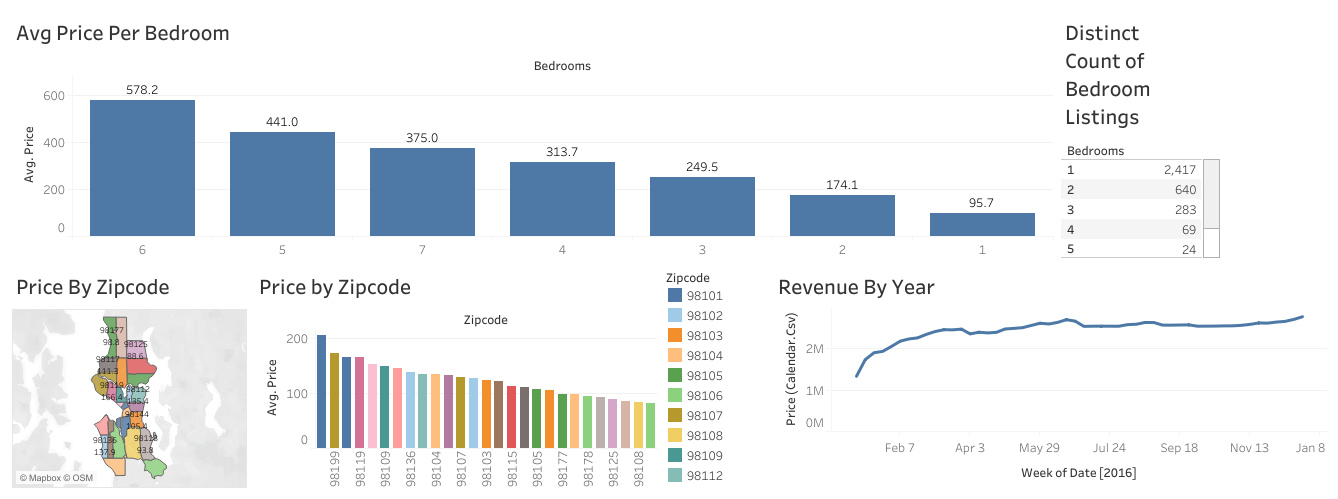

This screenshot's page, from the dashboard's own definition file:
{"tool":"tableau","page":{"name":"Dashboard 1","canvas":[1000,1000],"units":"permille","ordinal":0},"visuals":[{"type":"worksheet","title":"Sheet 4","mark":"Automatic","rows":["price"],"cols":["bedrooms"],"box":[6.9,14.7,781.8,509.2]},{"type":"worksheet","title":"Sheet 5","mark":"Automatic","rows":["bedrooms"],"box":[788.7,14.7,204.3,509.2]},{"type":"worksheet","title":"Sheet 2","mark":"Multipolygon","box":[6.9,523.9,210.2,461.4]},{"type":"worksheet","title":"Sheet 1","mark":"Automatic","rows":["price"],"cols":["zipcode"],"box":[217.2,523.9,355.1,461.4]},{"type":"legend","title":"Sheet 1","param":"[federated.0e7ptpq0jpy7sw1cbhajt1fqmnkp].[none:zipcode:ok]","box":[572.3,523.9,94.4,461.4]},{"type":"worksheet","title":"Sheet 3","mark":"Automatic","rows":["price (calendar.csv)"],"cols":["date"],"box":[666.7,523.9,326.4,461.4]}]}

Visuals, with their boxes on the dashboard's canvas, which has no fixed pixel size, in thousandths of its width and height (x1, y1, x2, y2). These are canvas units, not pixel positions in the 1338x499 screenshot, which may show the page scaled, cropped or inside an application window:
"Sheet 4" worksheet: detection(7, 15, 789, 524)
"Sheet 5" worksheet: detection(789, 15, 993, 524)
"Sheet 2" worksheet (Multipolygon marks): detection(7, 524, 217, 985)
"Sheet 1" worksheet: detection(217, 524, 572, 985)
"Sheet 1" legend: detection(572, 524, 667, 985)
"Sheet 3" worksheet: detection(667, 524, 993, 985)
